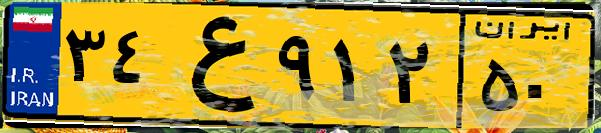0: (525, 38, 570, 115)
1: (330, 28, 385, 110)
2: (385, 28, 445, 110)
3: (57, 26, 110, 100)
4: (110, 28, 158, 98)
5: (475, 38, 525, 113)
9: (270, 28, 330, 110)
ع: (158, 12, 270, 120)
